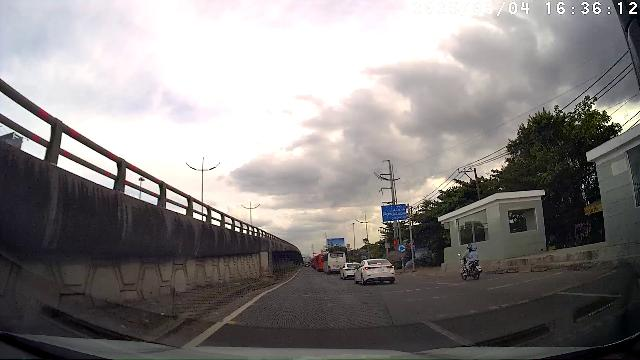303-noi-giao-nhau-chay-theo-vong-xuyen: (398, 244, 406, 253)
